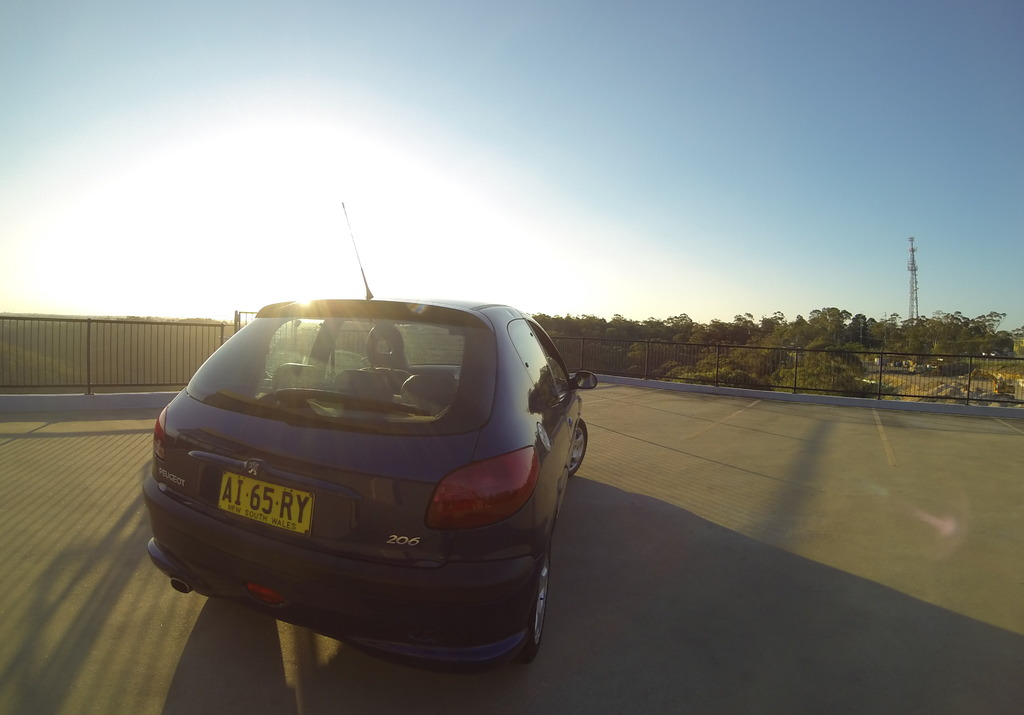license plate: (223, 470, 321, 509)
